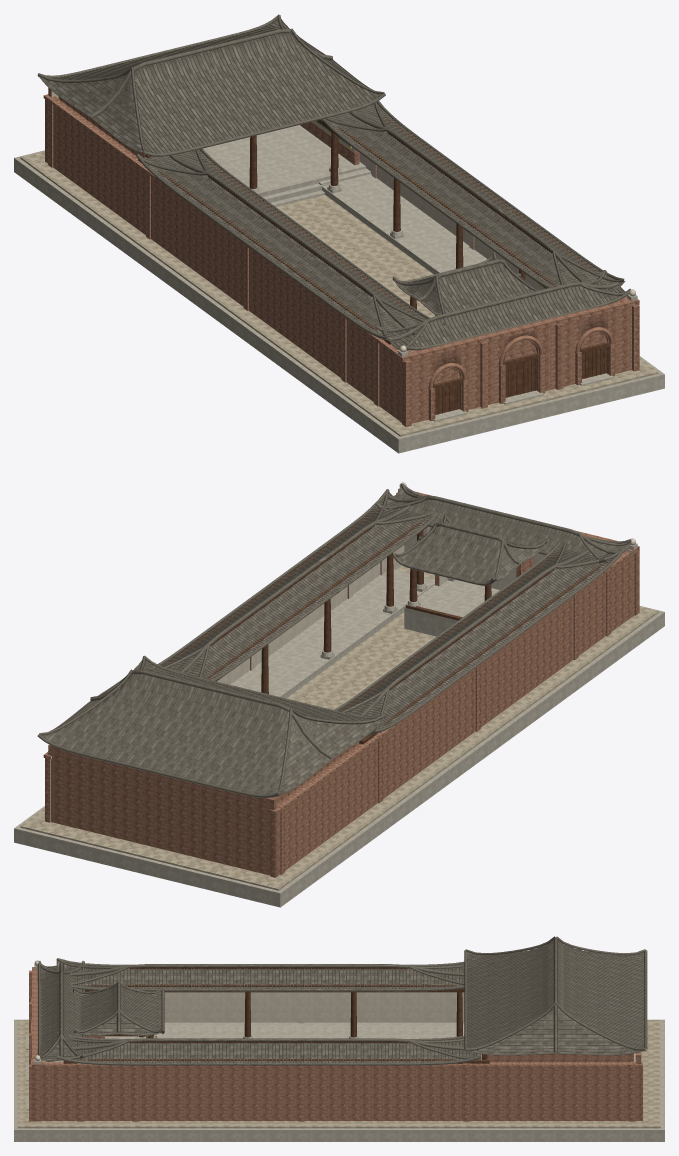
File: stage-a.glb
3 renders of one model, top to bottom at view 1: azimuth 30°, elevation 25°; view 2: azimuth 150°, elevation 25°; view 3: azimuth 270°, elevation 25°, orthographic. The views are drawn at different scales.
Visible parts, largest first — view 1: 03_MainHall, 02_Enclosure, 01_Base, 07_Entrance, 05_EastGallery, 04_WestGallery, 06_Stage; view 2: 02_Enclosure, 03_MainHall, 01_Base, 05_EastGallery, 04_WestGallery, 06_Stage, 07_Entrance; view 3: 02_Enclosure, 03_MainHall, 01_Base, 04_WestGallery, 05_EastGallery, 07_Entrance, 06_Stage.
Part boxes in pixels (left/top/right/bottom): 03_MainHall: left=37, top=14, right=385, bottom=206; 02_Enclosure: left=43, top=88, right=627, bottom=420; 01_Base: left=14, top=150, right=664, bottom=453; 07_Entrance: left=375, top=270, right=639, bottom=426; 05_EastGallery: left=317, top=101, right=625, bottom=295; 04_WestGallery: left=136, top=148, right=445, bottom=344; 06_Stage: left=392, top=252, right=538, bottom=350; 02_Enclosure: left=43, top=545, right=630, bottom=877; 03_MainHall: left=37, top=655, right=385, bottom=803; 01_Base: left=14, top=565, right=664, bottom=907; 05_EastGallery: left=157, top=489, right=439, bottom=698; 04_WestGallery: left=334, top=540, right=626, bottom=744; 06_Stage: left=392, top=515, right=546, bottom=636; 07_Entrance: left=375, top=482, right=639, bottom=617; 02_Enclosure: left=42, top=992, right=642, bottom=1121; 03_MainHall: left=464, top=936, right=647, bottom=1062; 01_Base: left=14, top=1019, right=664, bottom=1141; 04_WestGallery: left=56, top=958, right=464, bottom=1038; 05_EastGallery: left=56, top=1032, right=489, bottom=1065; 07_Entrance: left=26, top=960, right=84, bottom=1121; 06_Stage: left=73, top=982, right=164, bottom=1038.
Bounding box in the file's own units: 11.8 × 5.97 × 29.5.
Materials: 13 (10 with a texture image).
